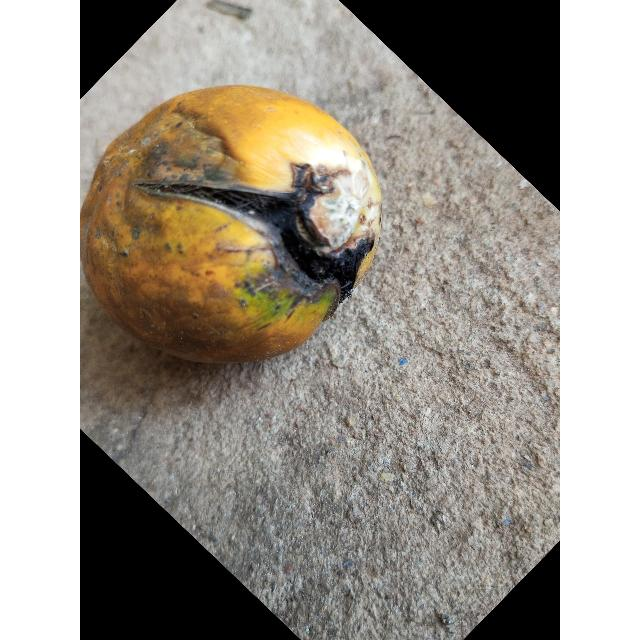damaged: (80, 84, 383, 367)
